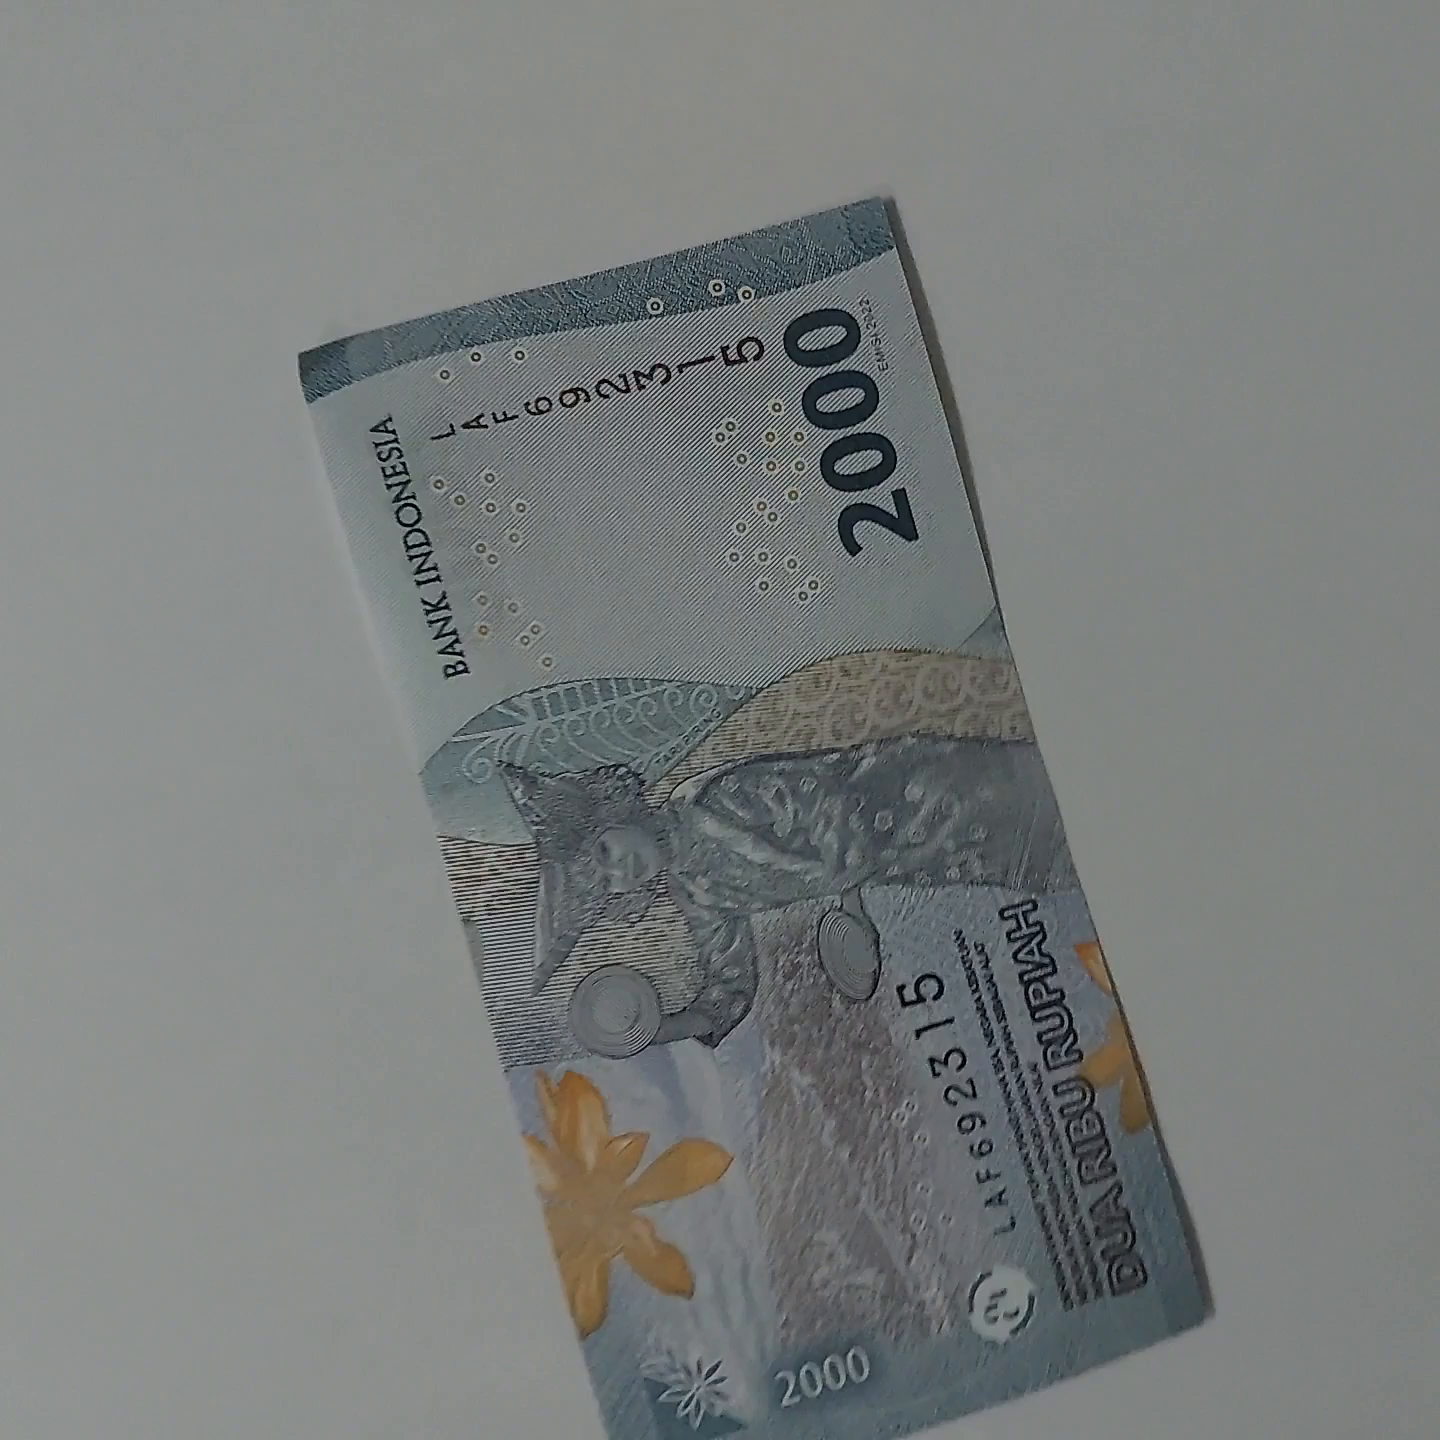2k: (261, 245, 1217, 1435)
